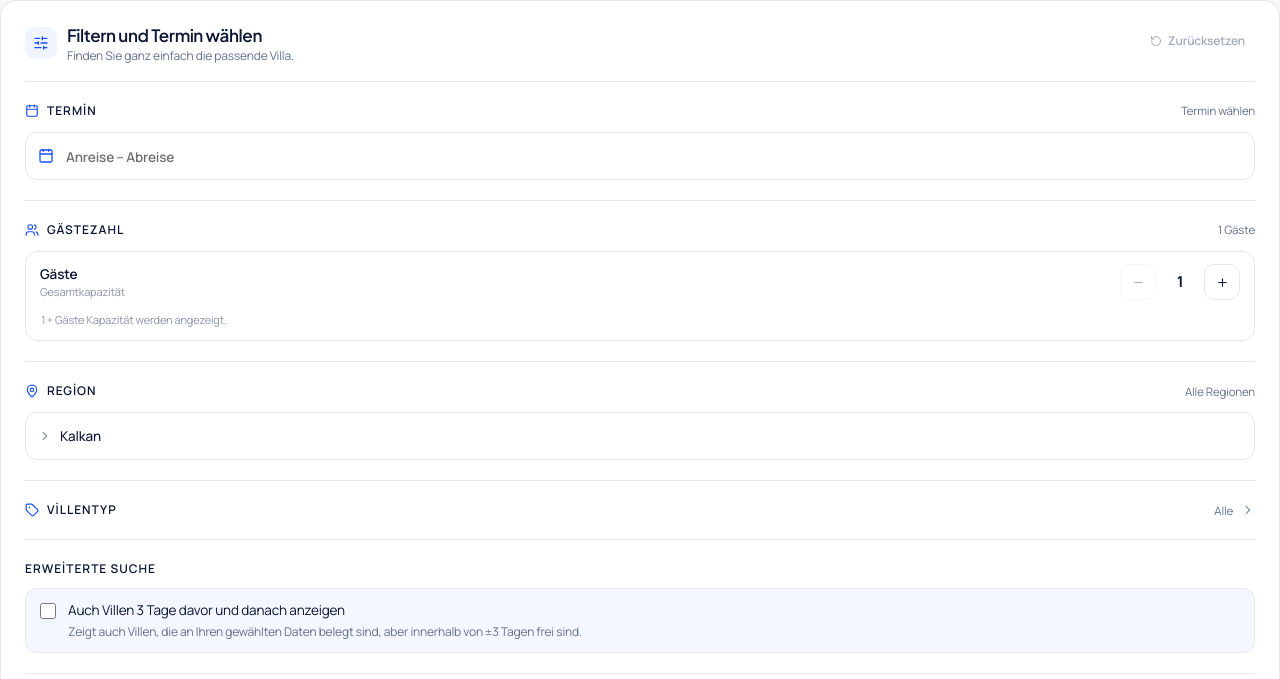
Test: Villa tipi adı locale-aware › 33) FilterSidebar /de → çözülmüş tip adını gösterir
The image size is (1280, 679).
Click the button "Villentyp Alle". click: (82, 510)
box: [25,501,1255,519]
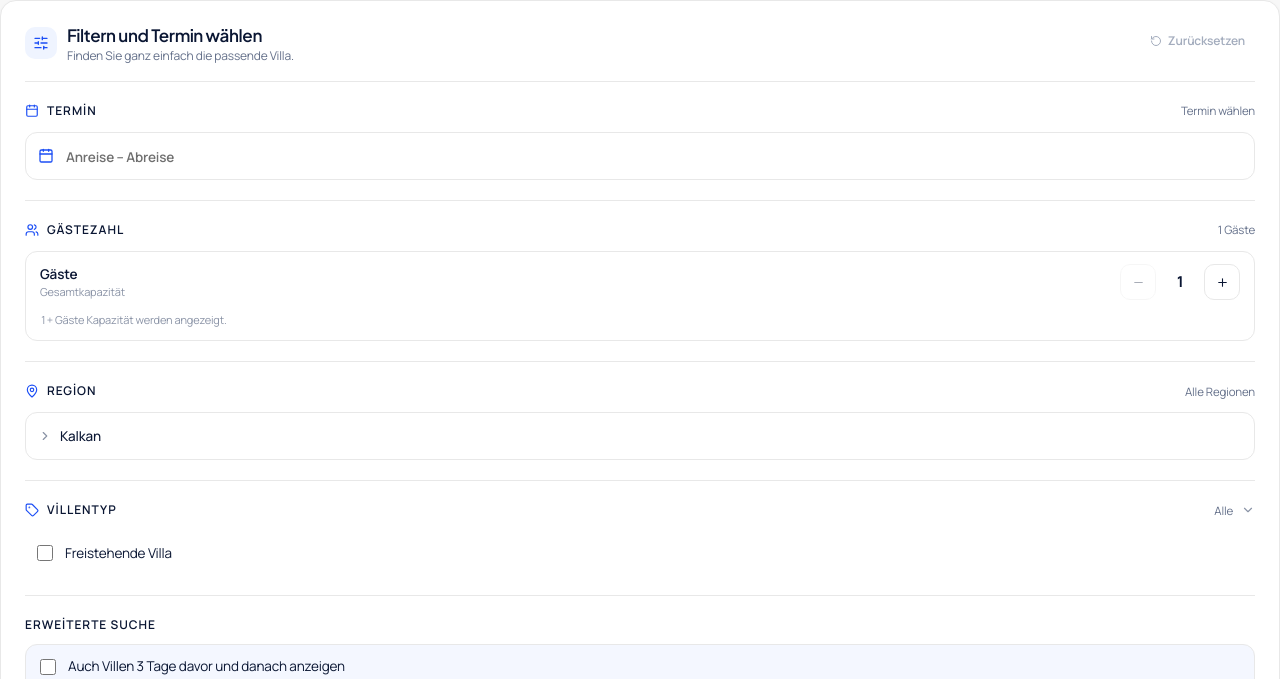
Check: the text "Freistehende Villa" is shown, box [65,543,172,564]
